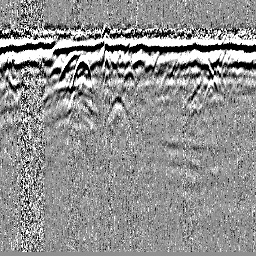cavity: (122, 63, 137, 85)
